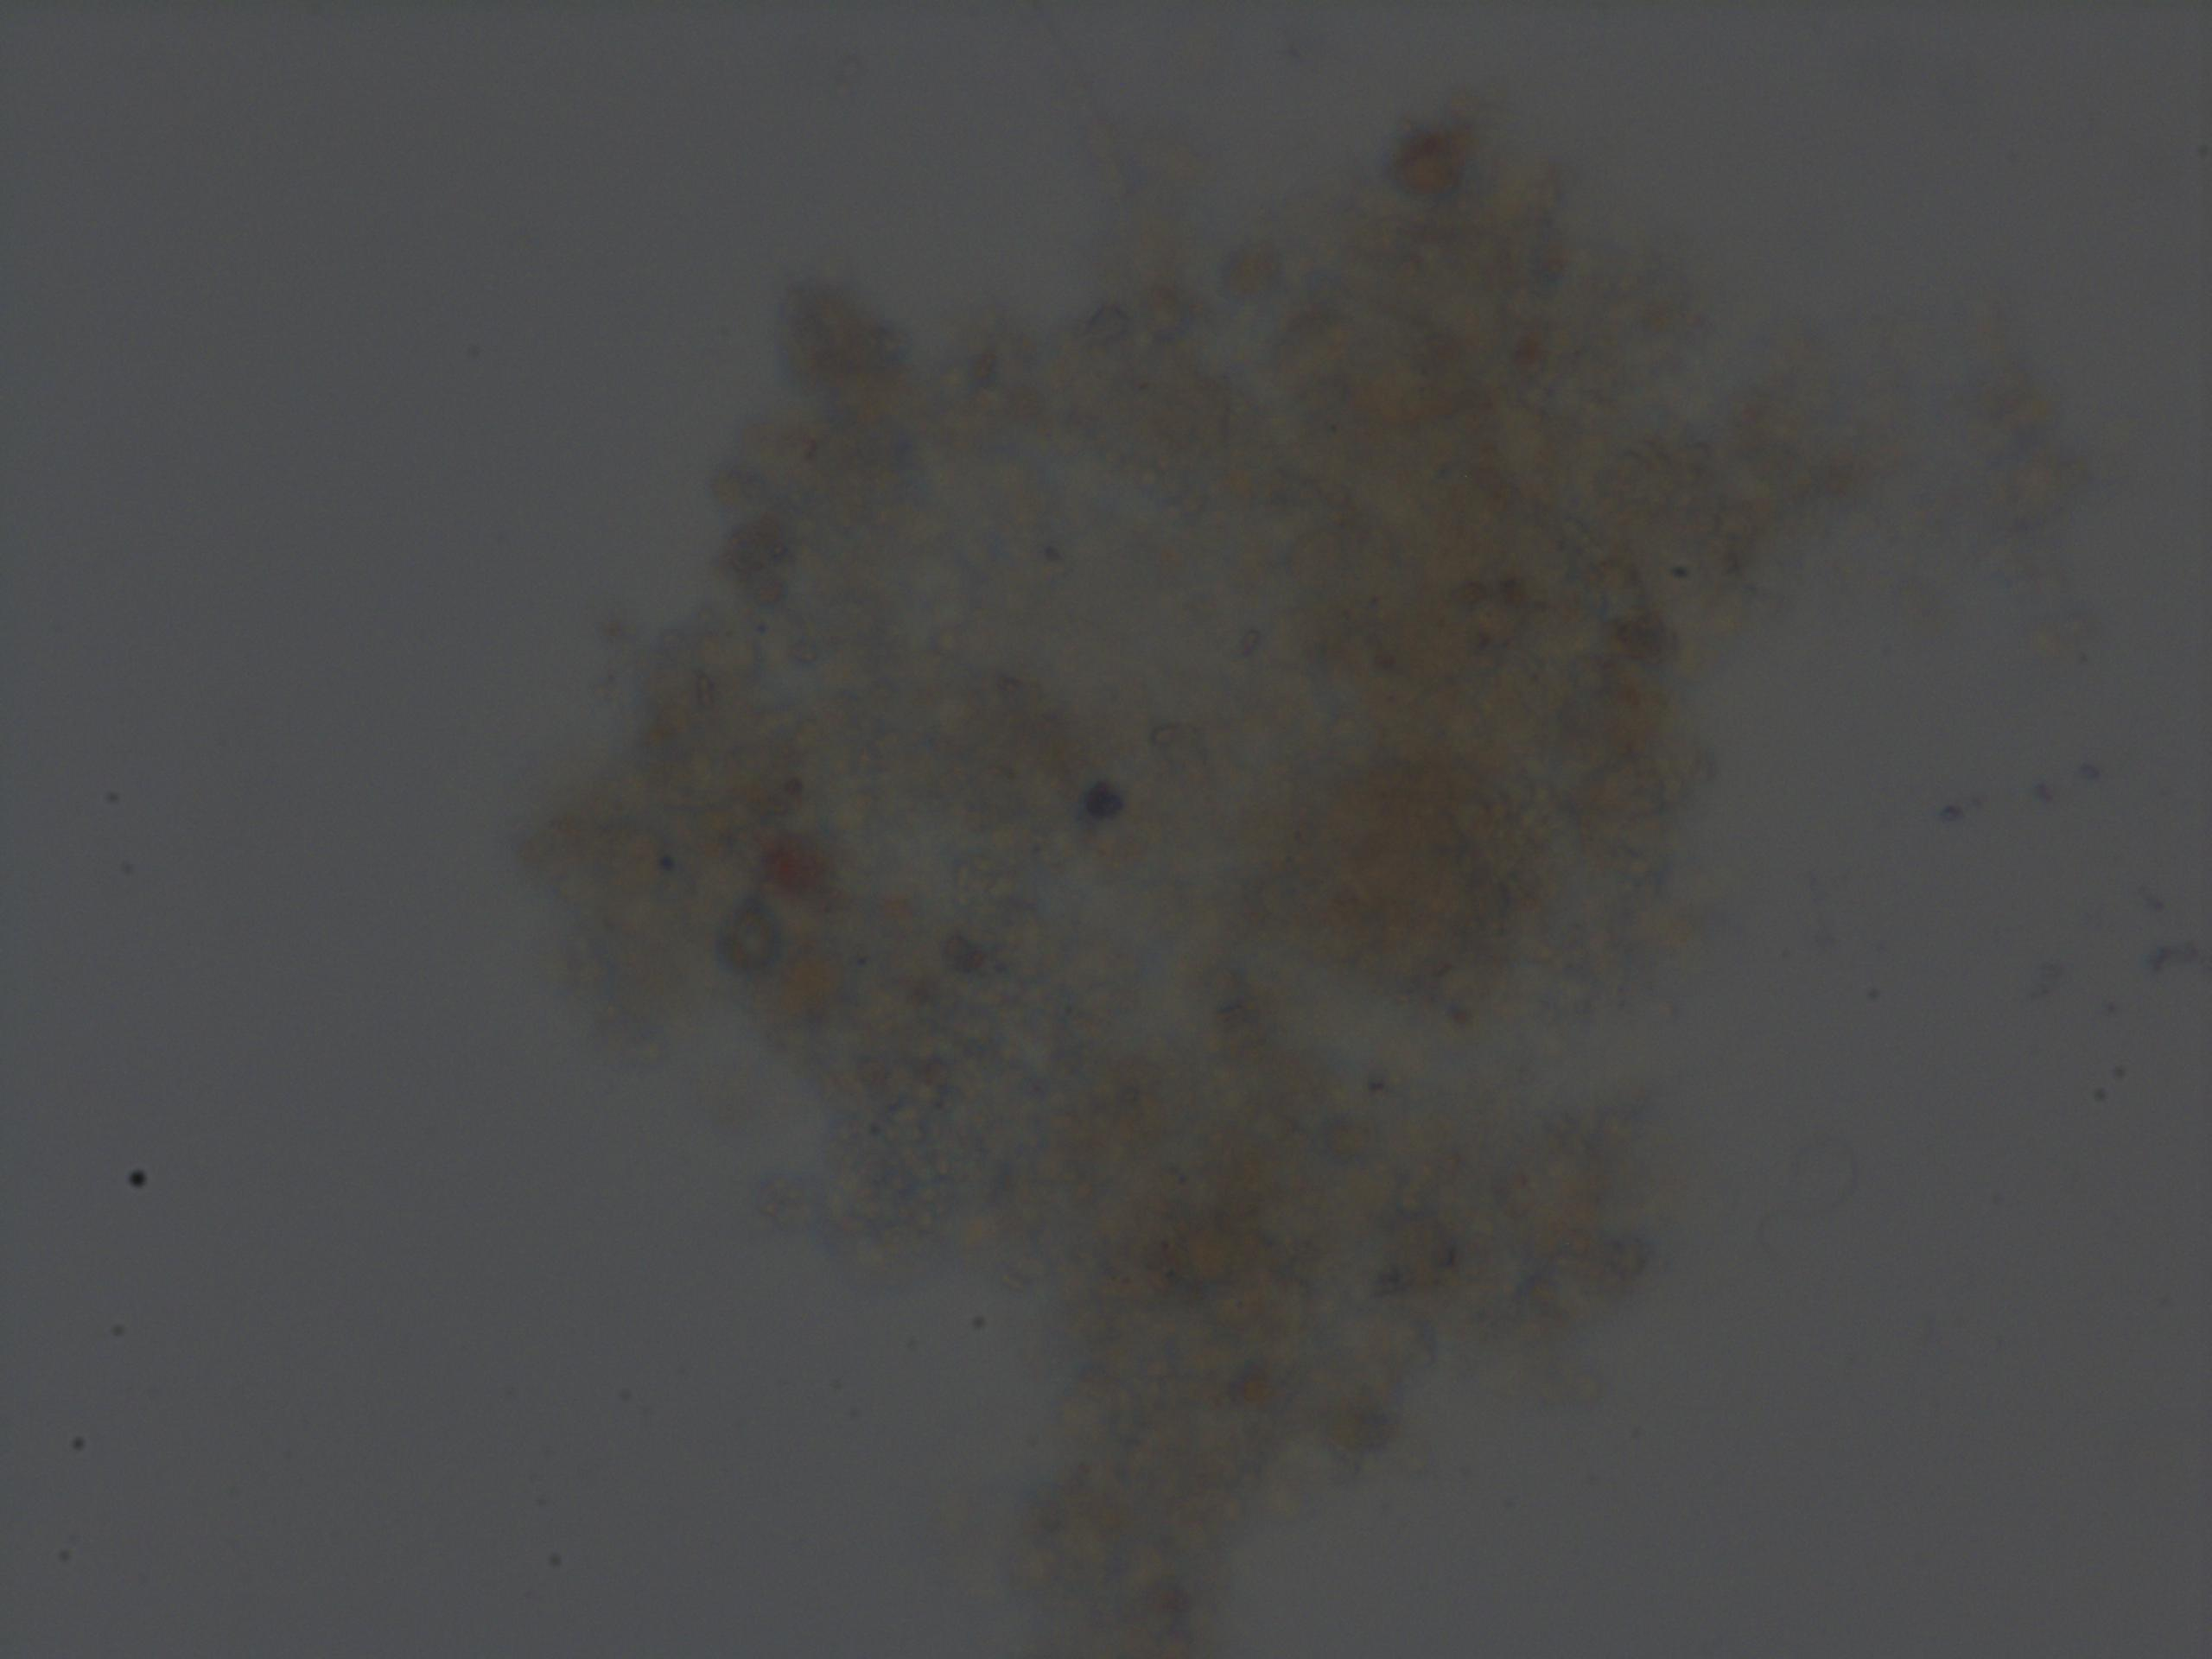open_floc: (521, 51, 1752, 1659)
